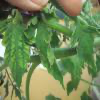Tomato leaf mosaic virus: (24, 17, 65, 90), (1, 17, 34, 87), (70, 23, 98, 76)
